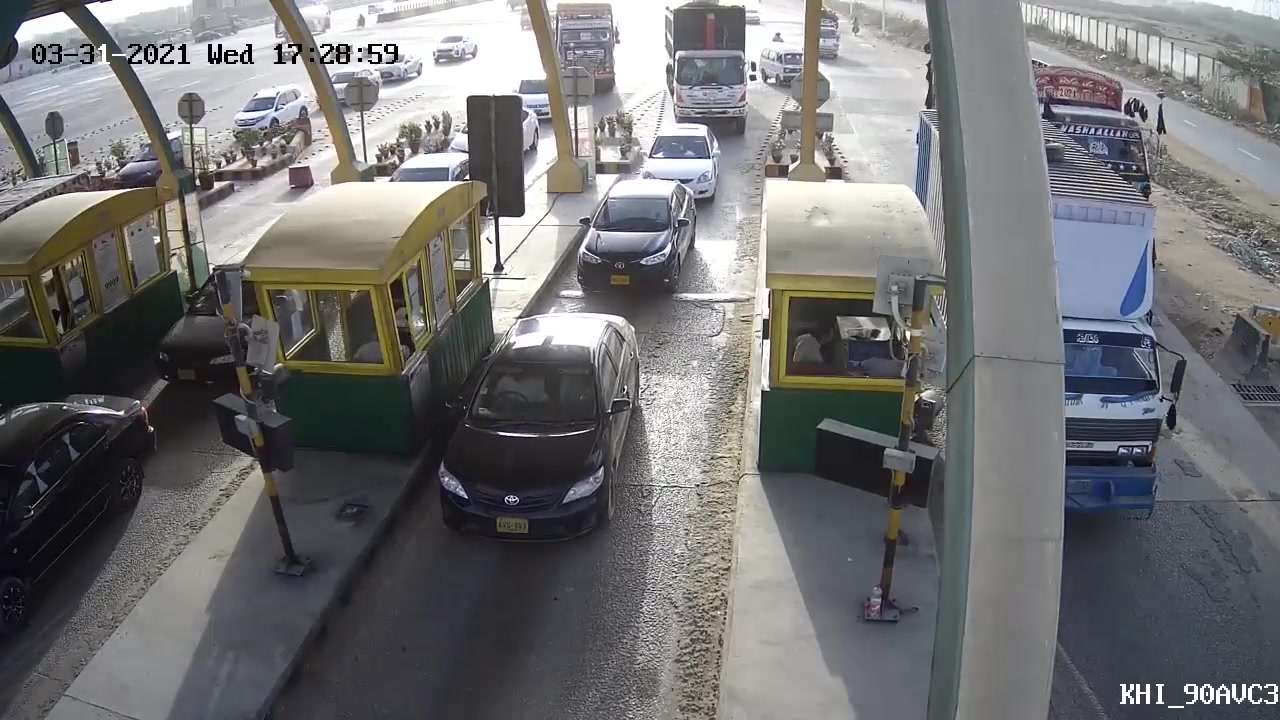F1: (433, 307, 644, 557), (551, 172, 716, 296)
